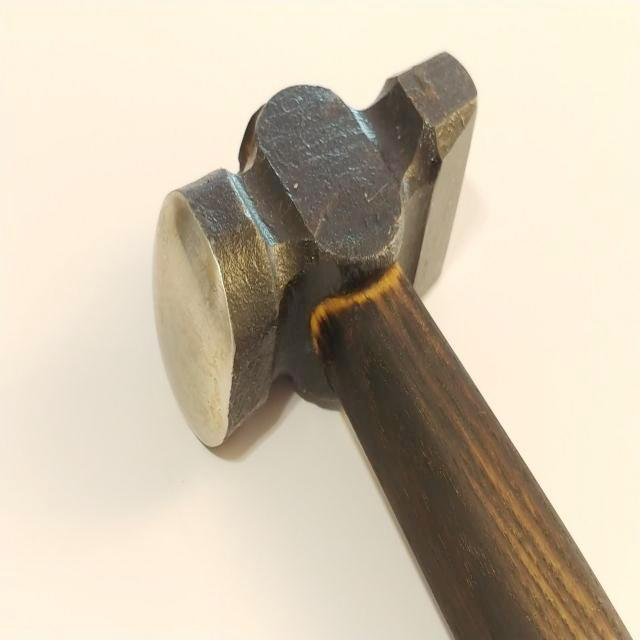hammer: (147, 45, 640, 640)
